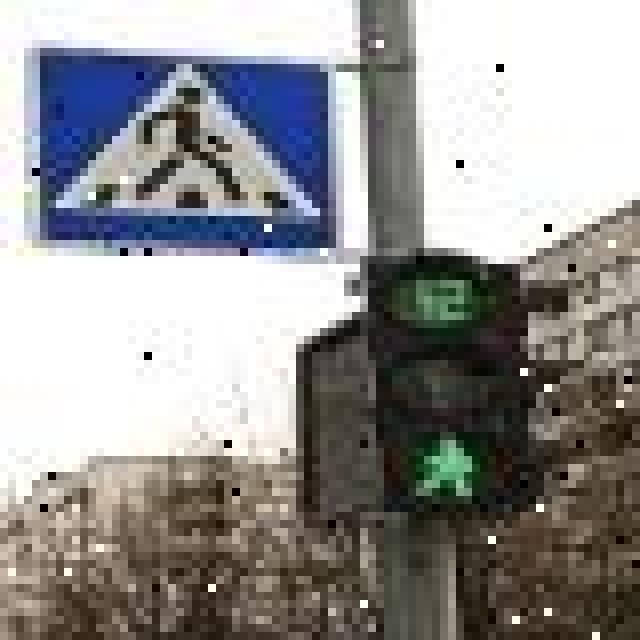greenlight: (382, 340, 521, 526)
